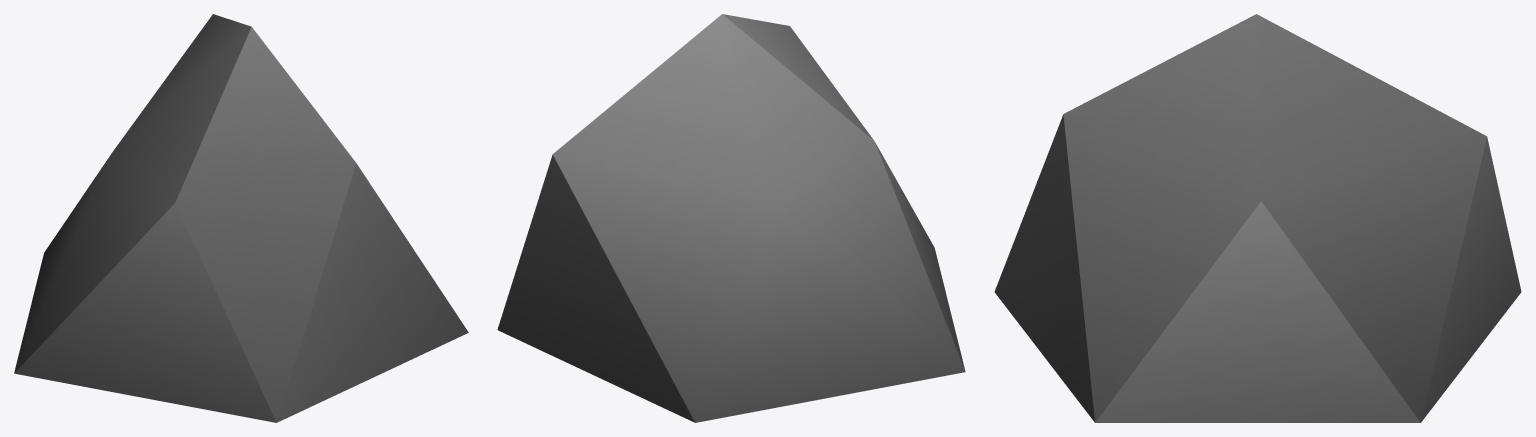
The model's file is Stone_1.fbx.
3 renders of one model, left to right at view 1: azimuth 30°, elevation 25°; view 2: azimuth 150°, elevation 25°; view 3: azimuth 270°, elevation 25°, orthographic. The views are drawn at different scales.
Visible parts, largest first — view 1: Icosphere; view 2: Icosphere; view 3: Icosphere.
Boxes of the visible parts, x1,y1,x2,y2 form: Icosphere: (14,14,468,422); Icosphere: (497,14,965,422); Icosphere: (994,14,1521,422).
Size of the model in its own units: 162 by 118 by 170.
